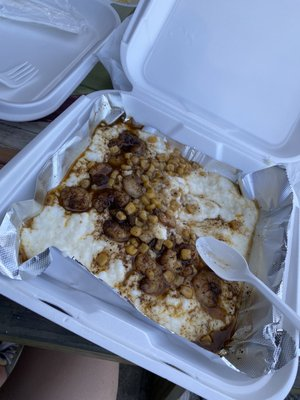salad: (196, 236, 300, 353)
